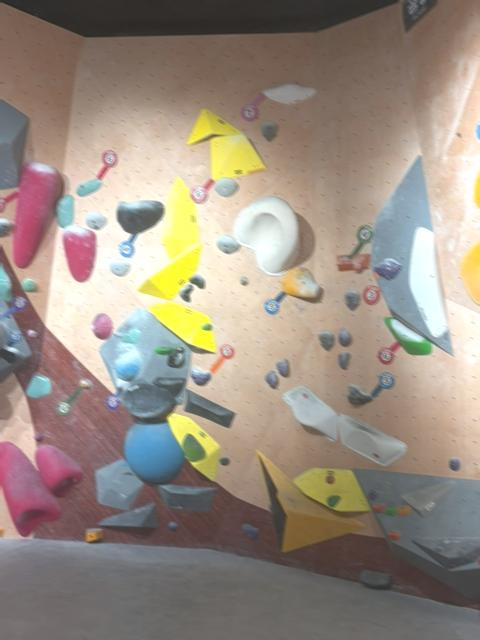crimp: (26, 372, 51, 398), (76, 178, 102, 196), (21, 278, 36, 291)
downhold: (216, 234, 240, 253), (214, 178, 238, 196), (84, 211, 107, 229), (260, 120, 278, 141), (110, 258, 130, 276), (344, 289, 360, 309), (318, 330, 334, 349)
jib: (395, 504, 411, 515), (386, 529, 401, 540), (449, 458, 460, 470), (372, 502, 385, 512), (367, 489, 378, 500), (424, 501, 435, 511), (384, 506, 397, 514), (168, 521, 178, 531), (79, 379, 90, 388), (219, 456, 229, 464), (26, 329, 36, 336), (240, 277, 248, 284)
jug: (12, 161, 61, 267), (62, 224, 96, 281), (383, 318, 432, 354), (116, 200, 164, 234), (281, 266, 322, 298), (263, 83, 316, 103), (374, 258, 401, 279), (347, 385, 372, 404), (190, 366, 210, 384), (241, 523, 259, 539), (0, 347, 18, 362), (189, 272, 204, 288), (178, 284, 192, 301), (264, 370, 277, 388), (338, 328, 351, 346), (276, 359, 289, 376), (338, 352, 350, 369)
ledge: (337, 414, 406, 466), (138, 243, 202, 299), (210, 133, 265, 179), (183, 389, 235, 427), (157, 484, 216, 510), (360, 569, 392, 589), (336, 254, 370, 270)
pinch: (85, 528, 102, 542)
sidepull: (408, 227, 447, 337), (161, 177, 199, 259), (56, 194, 74, 228)
sloper: (233, 196, 299, 275), (123, 421, 184, 484), (113, 349, 140, 380), (90, 314, 112, 339)
tape: (346, 224, 373, 259), (208, 343, 234, 374), (55, 386, 83, 414), (240, 94, 265, 121), (96, 150, 117, 179), (371, 371, 394, 397), (0, 296, 27, 318), (190, 179, 214, 202), (264, 291, 286, 314), (378, 341, 400, 363), (118, 234, 137, 258), (362, 282, 380, 304), (0, 191, 17, 211), (104, 390, 120, 409), (8, 328, 22, 345), (373, 272, 380, 280)
undercling: (0, 441, 60, 536), (148, 302, 216, 351), (284, 386, 337, 441), (34, 444, 83, 496), (186, 108, 241, 144)
volume: (352, 468, 480, 599), (370, 155, 452, 354), (256, 451, 364, 551), (98, 308, 192, 417), (167, 413, 219, 480), (293, 468, 370, 511), (94, 459, 142, 509), (98, 502, 157, 528)
